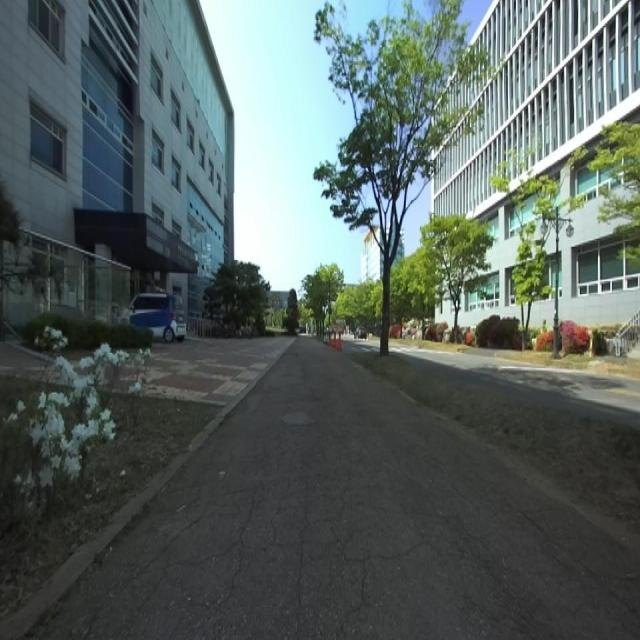sidewalk: (32, 338, 640, 639)
